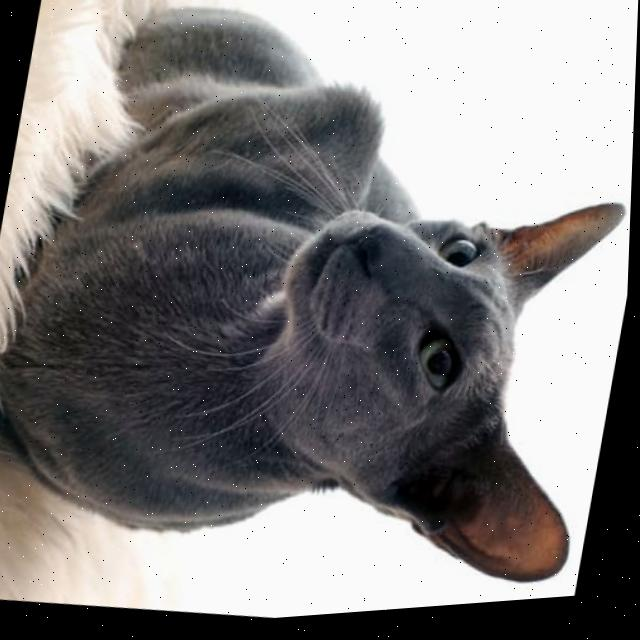Oriental: (0, 0, 640, 637)
